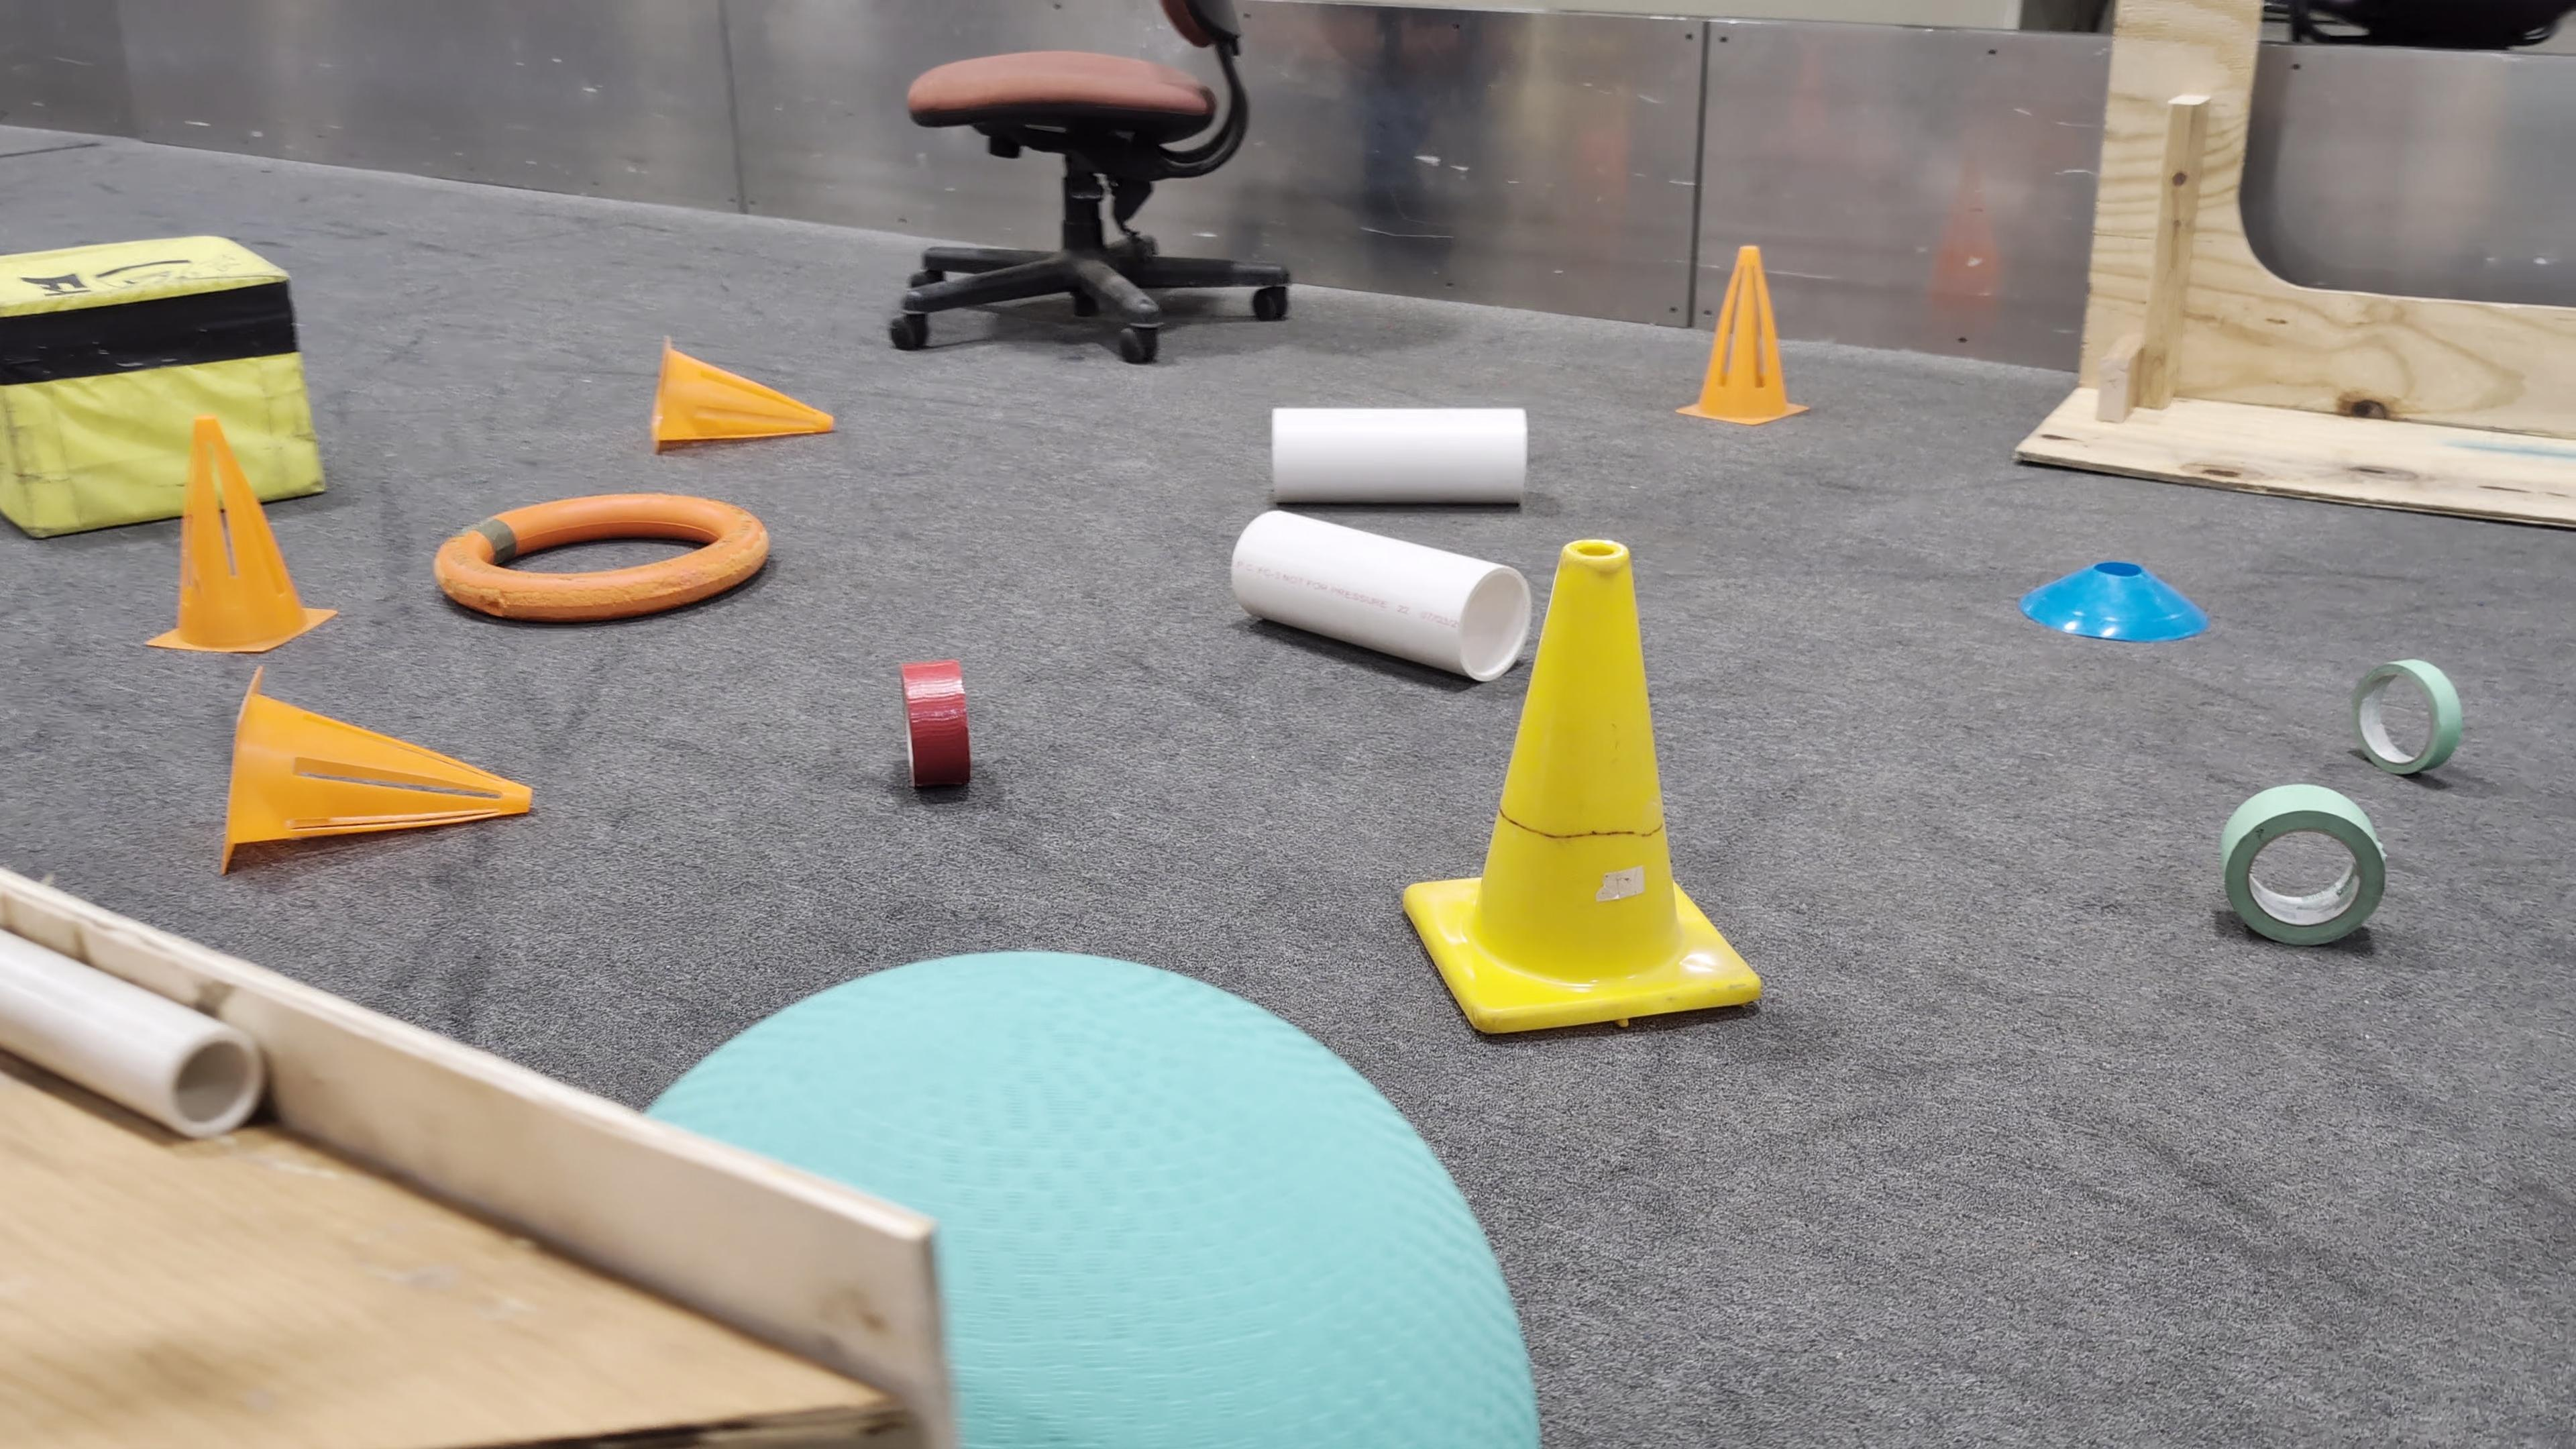algae: (635, 952, 1537, 1445)
coral: (1230, 506, 1541, 685), (1263, 400, 1534, 506)
